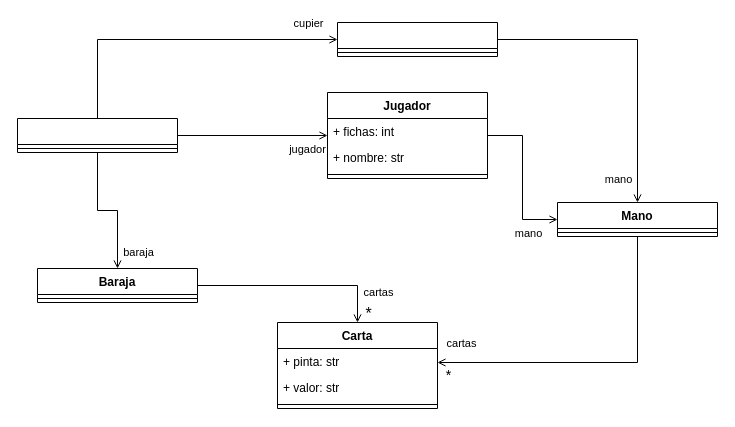
Some shapes in this 735 by 427 pixel diagram are drawn without their labels. Here are the shapes that lost their labels. From the top down, the centre of each, then its label:
At [417,39]: "Casa".
At [97,135]: "Blackjack".
